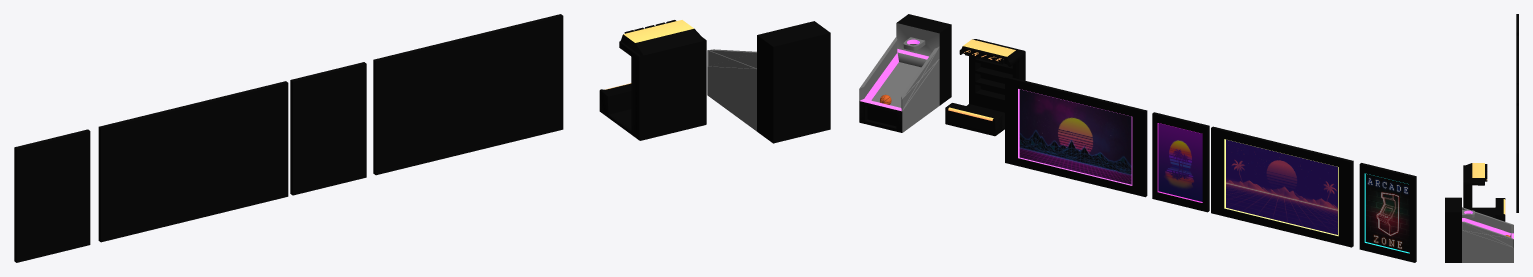
File: prizecounter.fbx
3 renders of one model, left to right at view 1: azimuth 30°, elevation 25°; view 2: azimuth 150°, elevation 25°; view 3: azimuth 270°, elevation 25°, orthographic. The views are drawn at different scales.
Parts seen in each view (by area): view 1: Plane, Plane.002, Cube, Cube.006, Plane.001, Plane.003; view 2: Plane.002, Plane, Cube, Plane.001, Plane.003, Cube.006; view 3: Cube, Cube.006, Plane, Plane.002, Plane.001, Plane.003.
Part boxes in pixels (x1,y1,x2,y2): Plane: [373, 14, 563, 175]; Plane.002: [98, 81, 288, 242]; Cube: [707, 21, 830, 143]; Cube.006: [599, 20, 706, 140]; Plane.001: [290, 62, 366, 195]; Plane.003: [14, 129, 90, 262]; Plane.002: [1211, 126, 1353, 247]; Plane: [1005, 76, 1147, 197]; Cube: [859, 14, 951, 132]; Plane.001: [1152, 112, 1209, 212]; Plane.003: [1359, 163, 1416, 262]; Cube.006: [945, 39, 1025, 136]; Cube: [1445, 197, 1513, 262]; Cube.006: [1463, 163, 1505, 221]; Plane: [1516, 105, 1518, 212]; Plane.002: [1516, 35, 1518, 84]; Plane.001: [1516, 84, 1518, 105]; Plane.003: [1516, 14, 1518, 35].
Bounding box in the file's own units: 5407 × 789 × 889.
